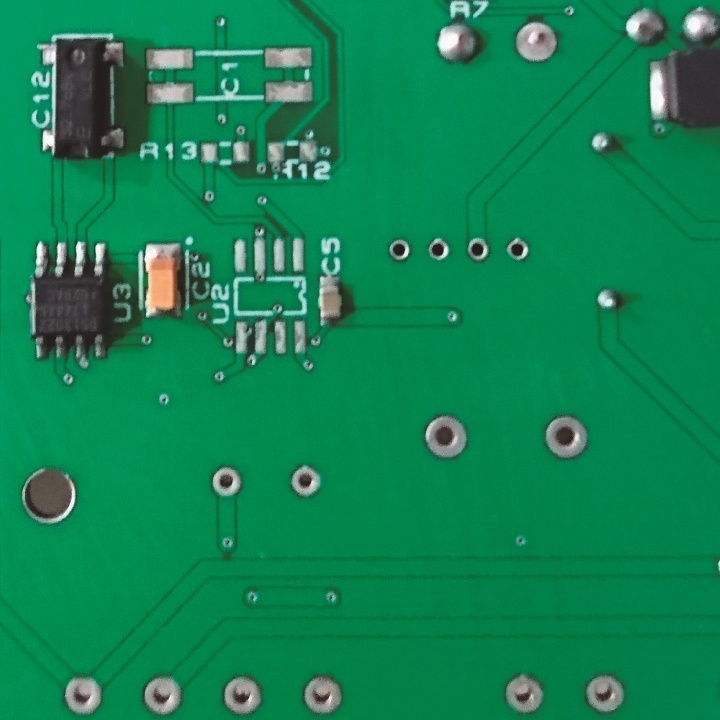F: (422, 412, 472, 463), (543, 409, 590, 461), (510, 18, 559, 67), (219, 672, 268, 720), (136, 670, 187, 715), (299, 672, 344, 720), (502, 669, 547, 717), (583, 669, 629, 715), (59, 672, 106, 715), (290, 460, 324, 503), (207, 466, 244, 498), (502, 235, 529, 263), (426, 235, 450, 263), (466, 235, 490, 263), (387, 238, 413, 263)
